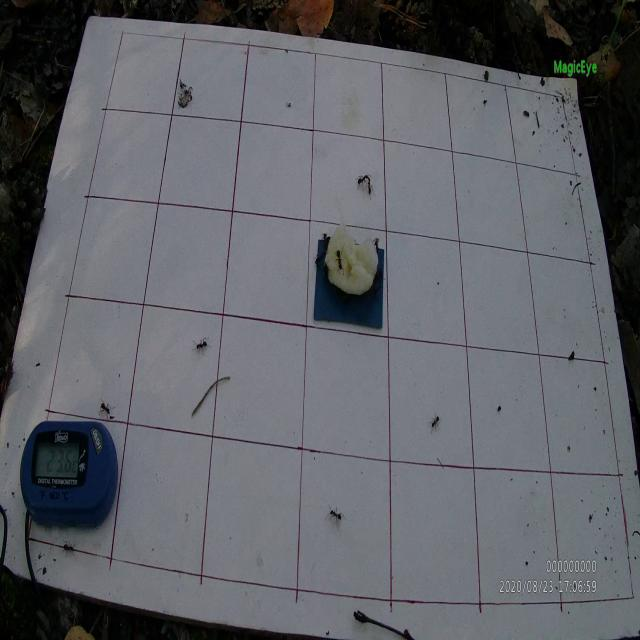Ant: (326, 504, 347, 531), (191, 337, 212, 358), (98, 397, 115, 421), (335, 242, 346, 276), (62, 539, 78, 562), (428, 413, 442, 436), (313, 248, 328, 267), (366, 176, 376, 199), (356, 172, 368, 189)
